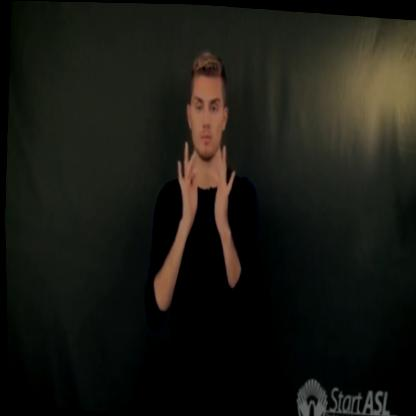Internet: (166, 129, 245, 239)
